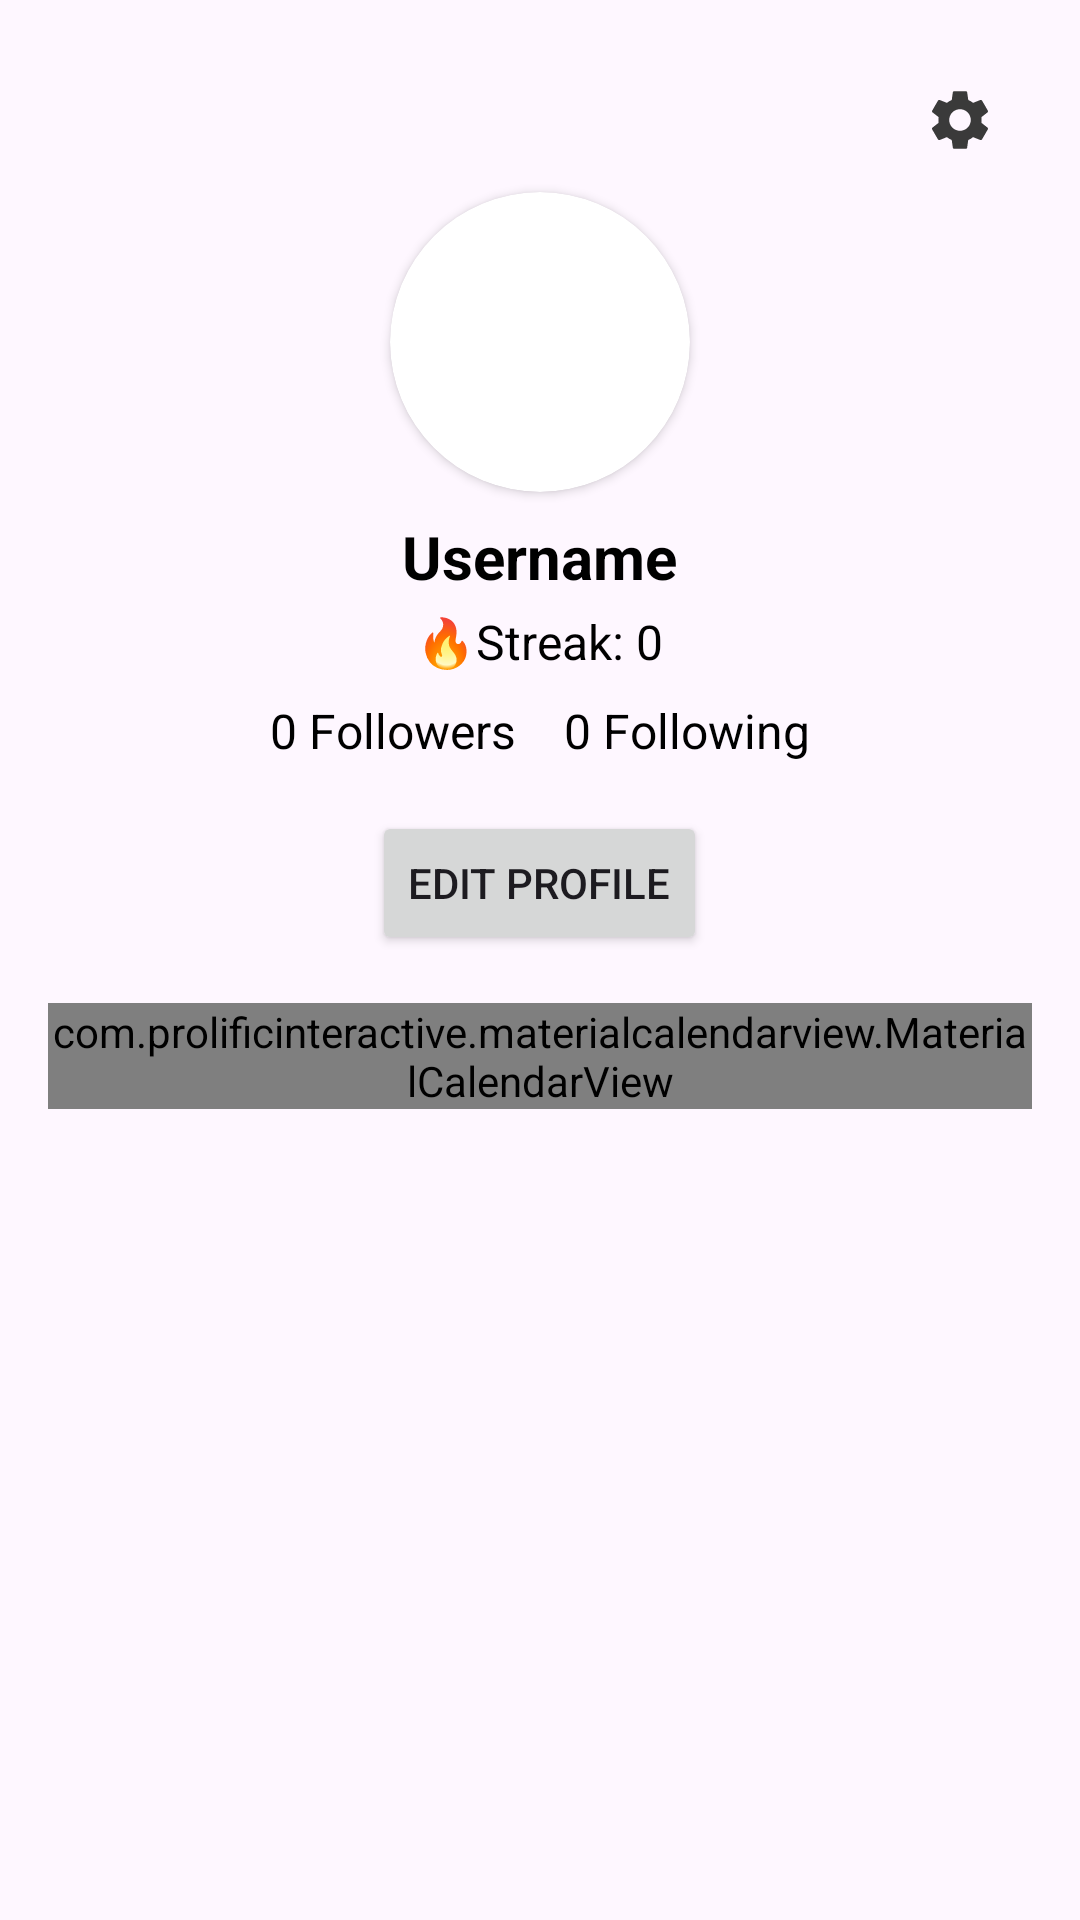

Icons on this 1080*1920 Android screen, each with the point to tap as point (x, y):
Settings: point (960, 120)
